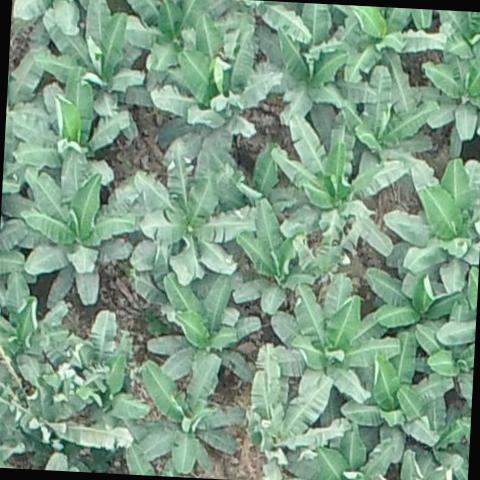Banana-plant: (0, 297, 146, 475), (266, 112, 410, 264), (120, 151, 267, 292), (13, 164, 139, 313), (261, 283, 405, 404), (1, 76, 134, 206), (140, 268, 265, 404), (127, 348, 252, 480), (340, 344, 460, 474), (378, 152, 480, 298), (149, 34, 286, 140), (228, 198, 348, 317), (34, 0, 152, 120), (255, 24, 378, 132), (240, 359, 356, 471), (363, 240, 480, 335), (330, 5, 450, 87), (124, 0, 221, 81), (405, 44, 480, 145)
